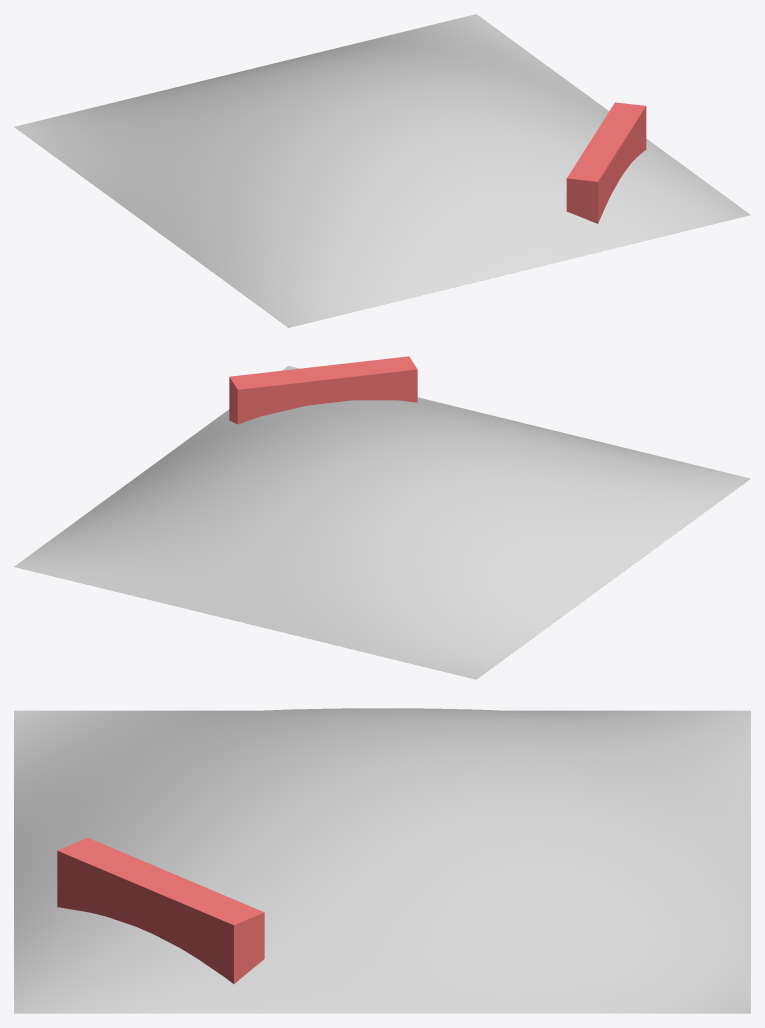
The picture shows the model from 3 angles, top to bottom: view 1: azimuth 30°, elevation 25°; view 2: azimuth 150°, elevation 25°; view 3: azimuth 270°, elevation 25°; orthographic projection. The views are drawn at different scales.
Size of the model in its own units: 51.41 by 7.27 by 52.86.
